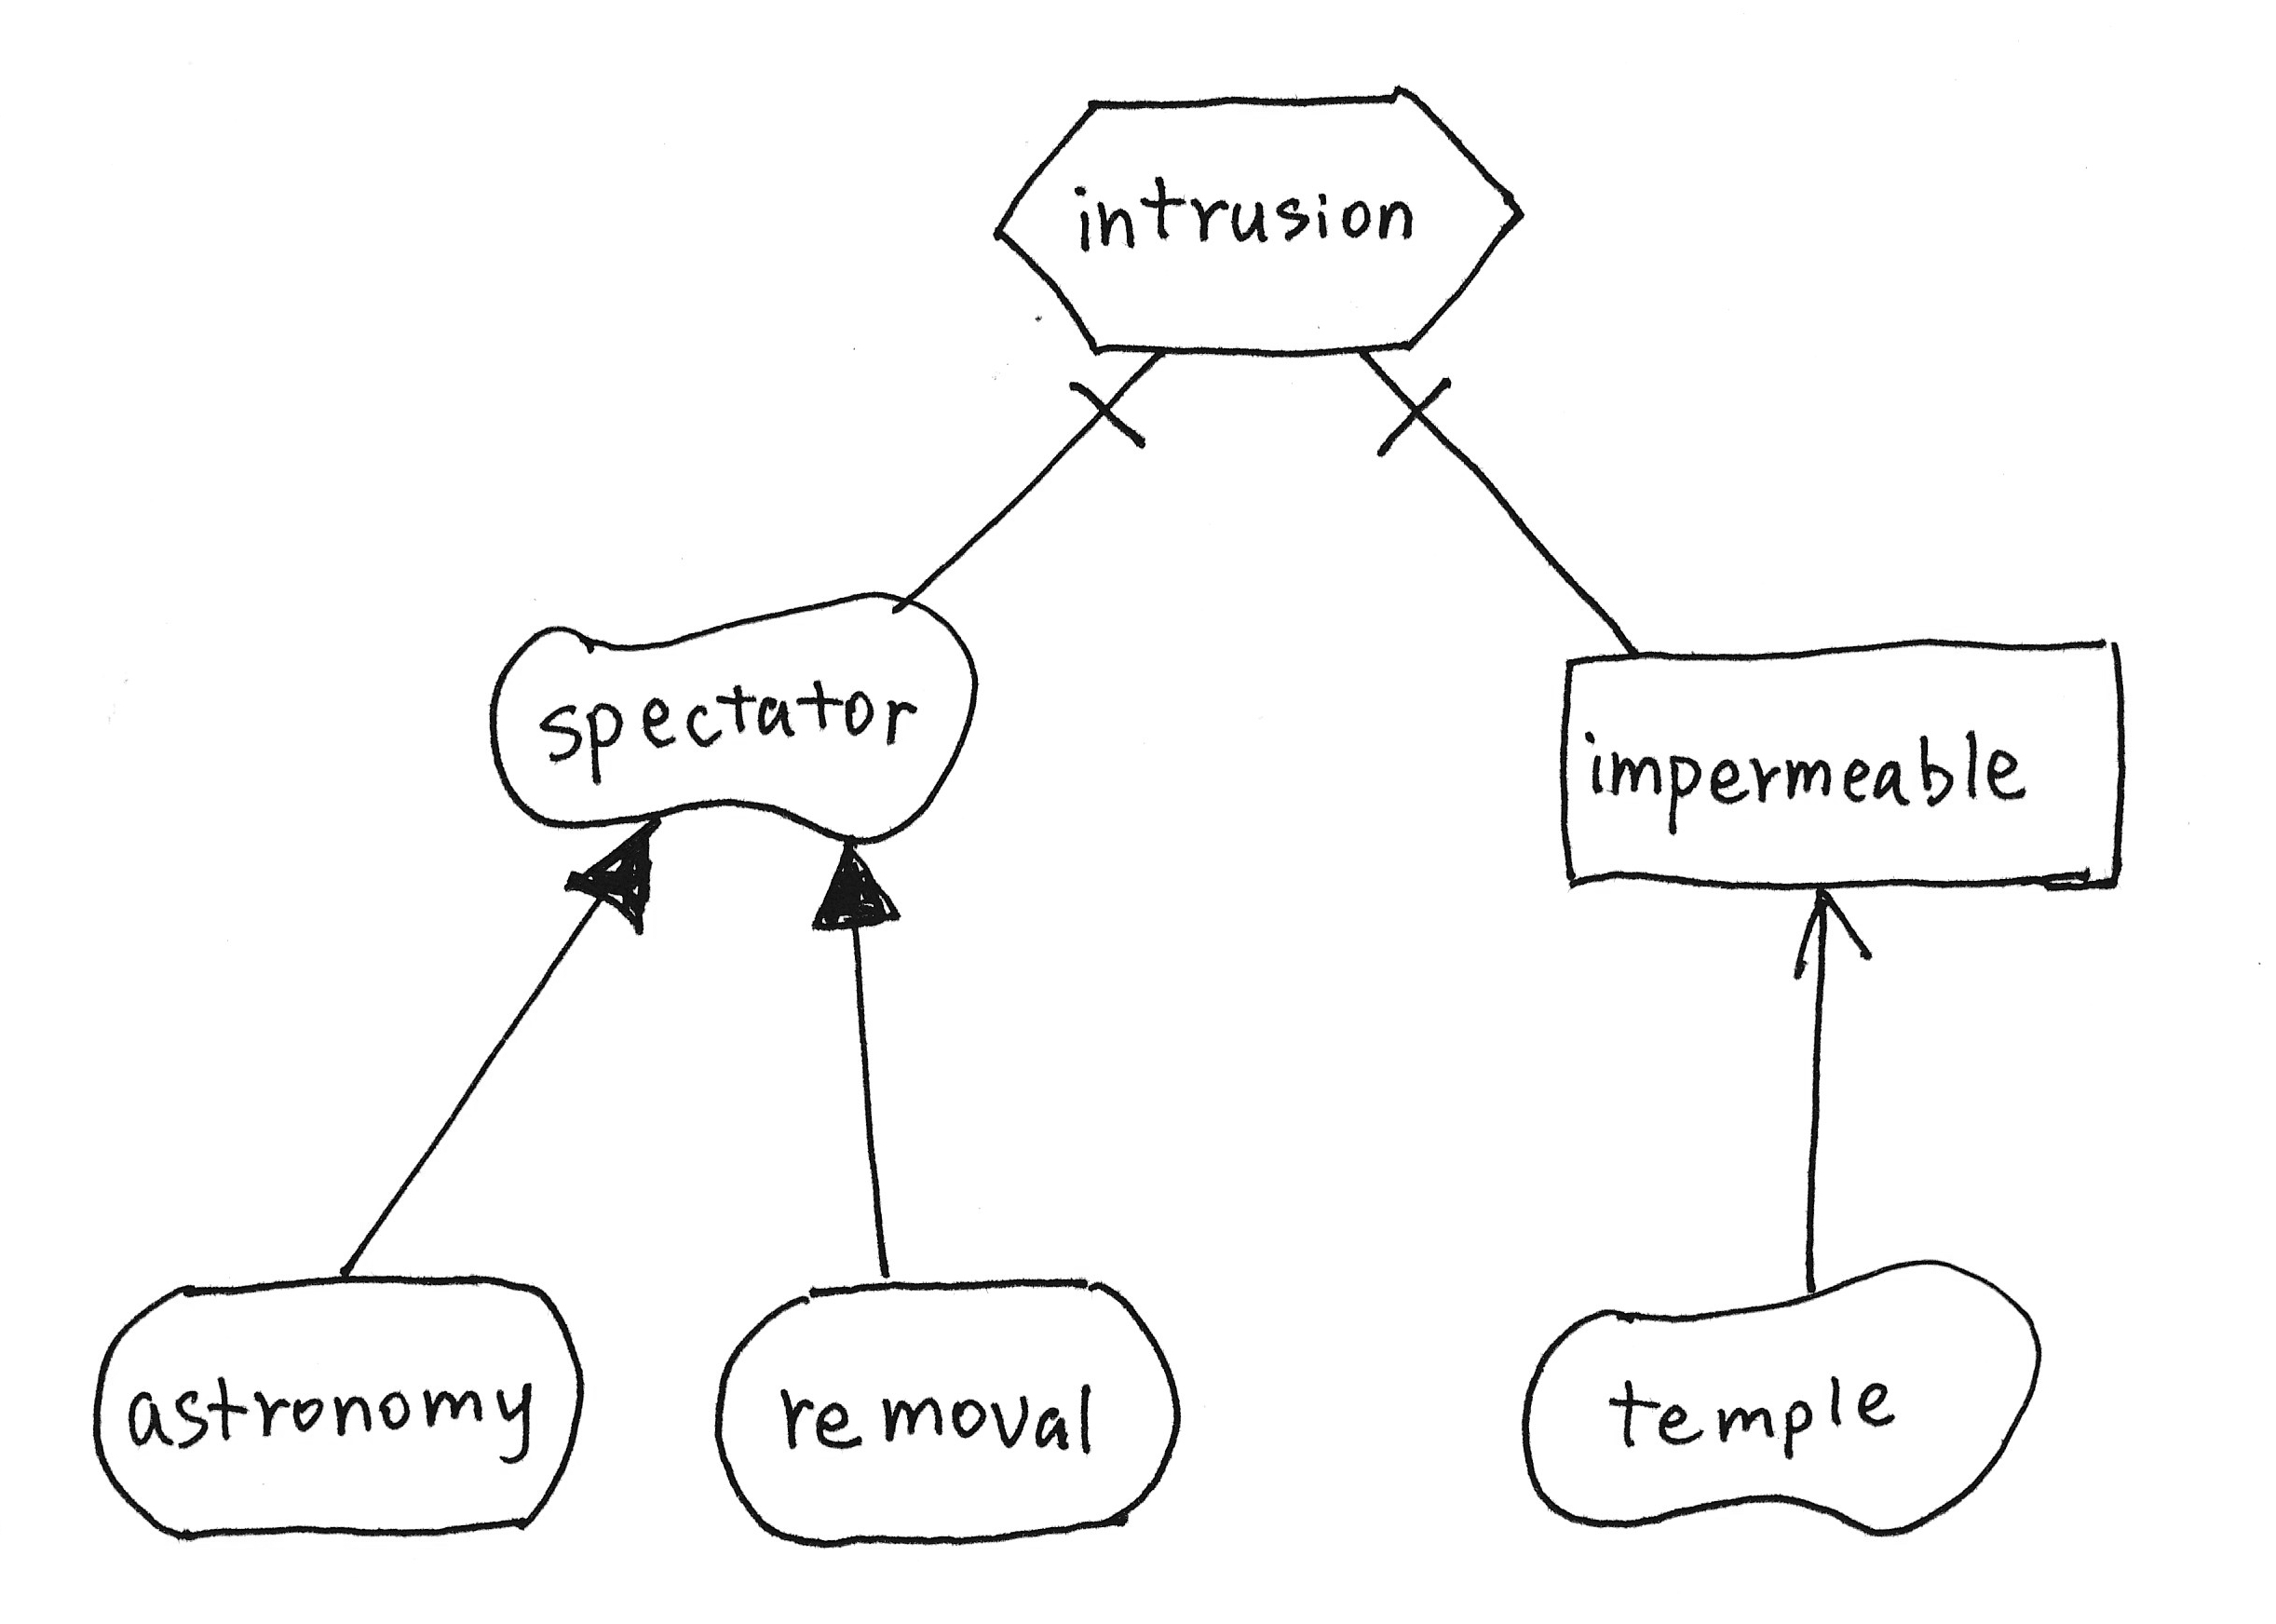and: (1339, 322, 1475, 471), (1053, 337, 1179, 460)
arrow: (1765, 866, 1891, 995)
goal: (60, 1248, 606, 1564), (691, 1253, 1216, 1568)
or: (555, 798, 682, 947), (789, 830, 916, 954)
quality: (1503, 1236, 2067, 1548), (468, 568, 995, 866)
resource: (1534, 612, 2164, 940)
task: (981, 70, 1550, 376)
